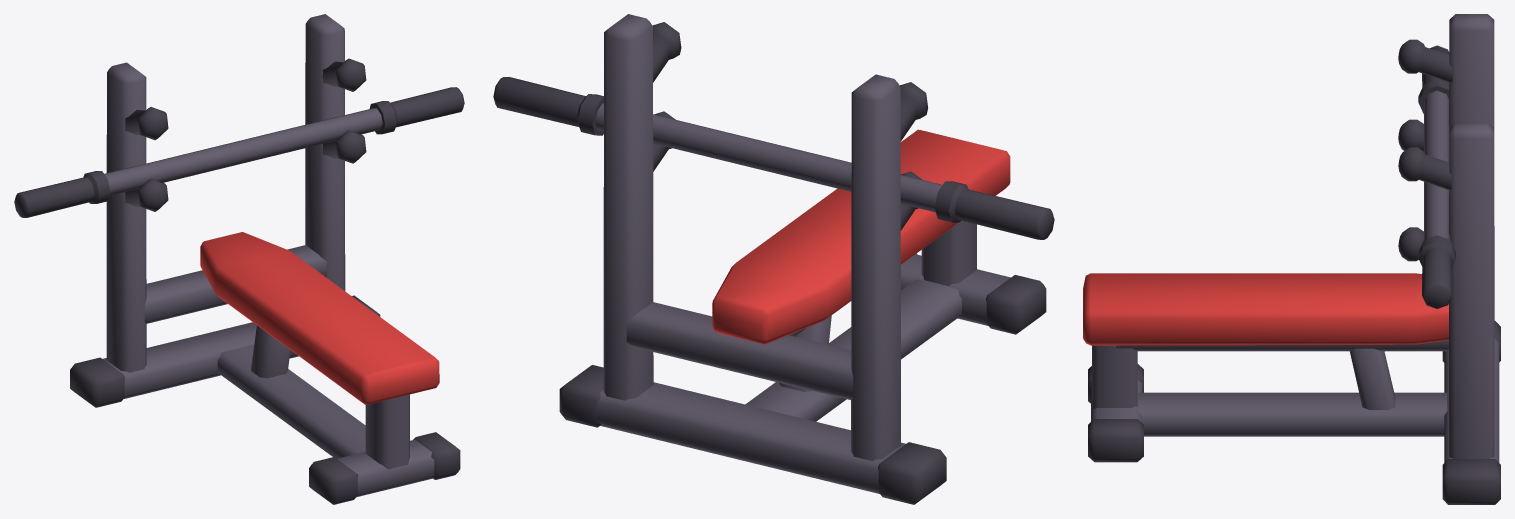
File: Bench_Press_v01.fbx
The picture shows the model from 3 angles, left to right: view 1: azimuth 30°, elevation 25°; view 2: azimuth 150°, elevation 25°; view 3: azimuth 270°, elevation 25°; orthographic projection. The views are drawn at different scales.
Parts seen in each view (by area): view 1: Bench_Press_v01; view 2: Bench_Press_v01; view 3: Bench_Press_v01.
Part boxes in pixels (x1,y1,x2,y2): Bench_Press_v01: (14, 14, 464, 504); Bench_Press_v01: (493, 14, 1054, 504); Bench_Press_v01: (1083, 14, 1500, 504).
Size of the model in its own units: 1.55 by 1.08 by 1.14.
1 material, 1 textured.
